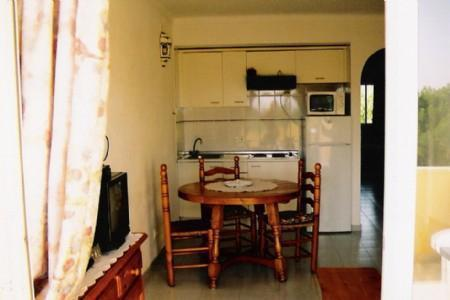Electrodomestico: (304, 118, 351, 230)
